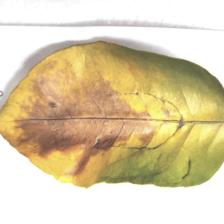black spot: (21, 84, 167, 164)
